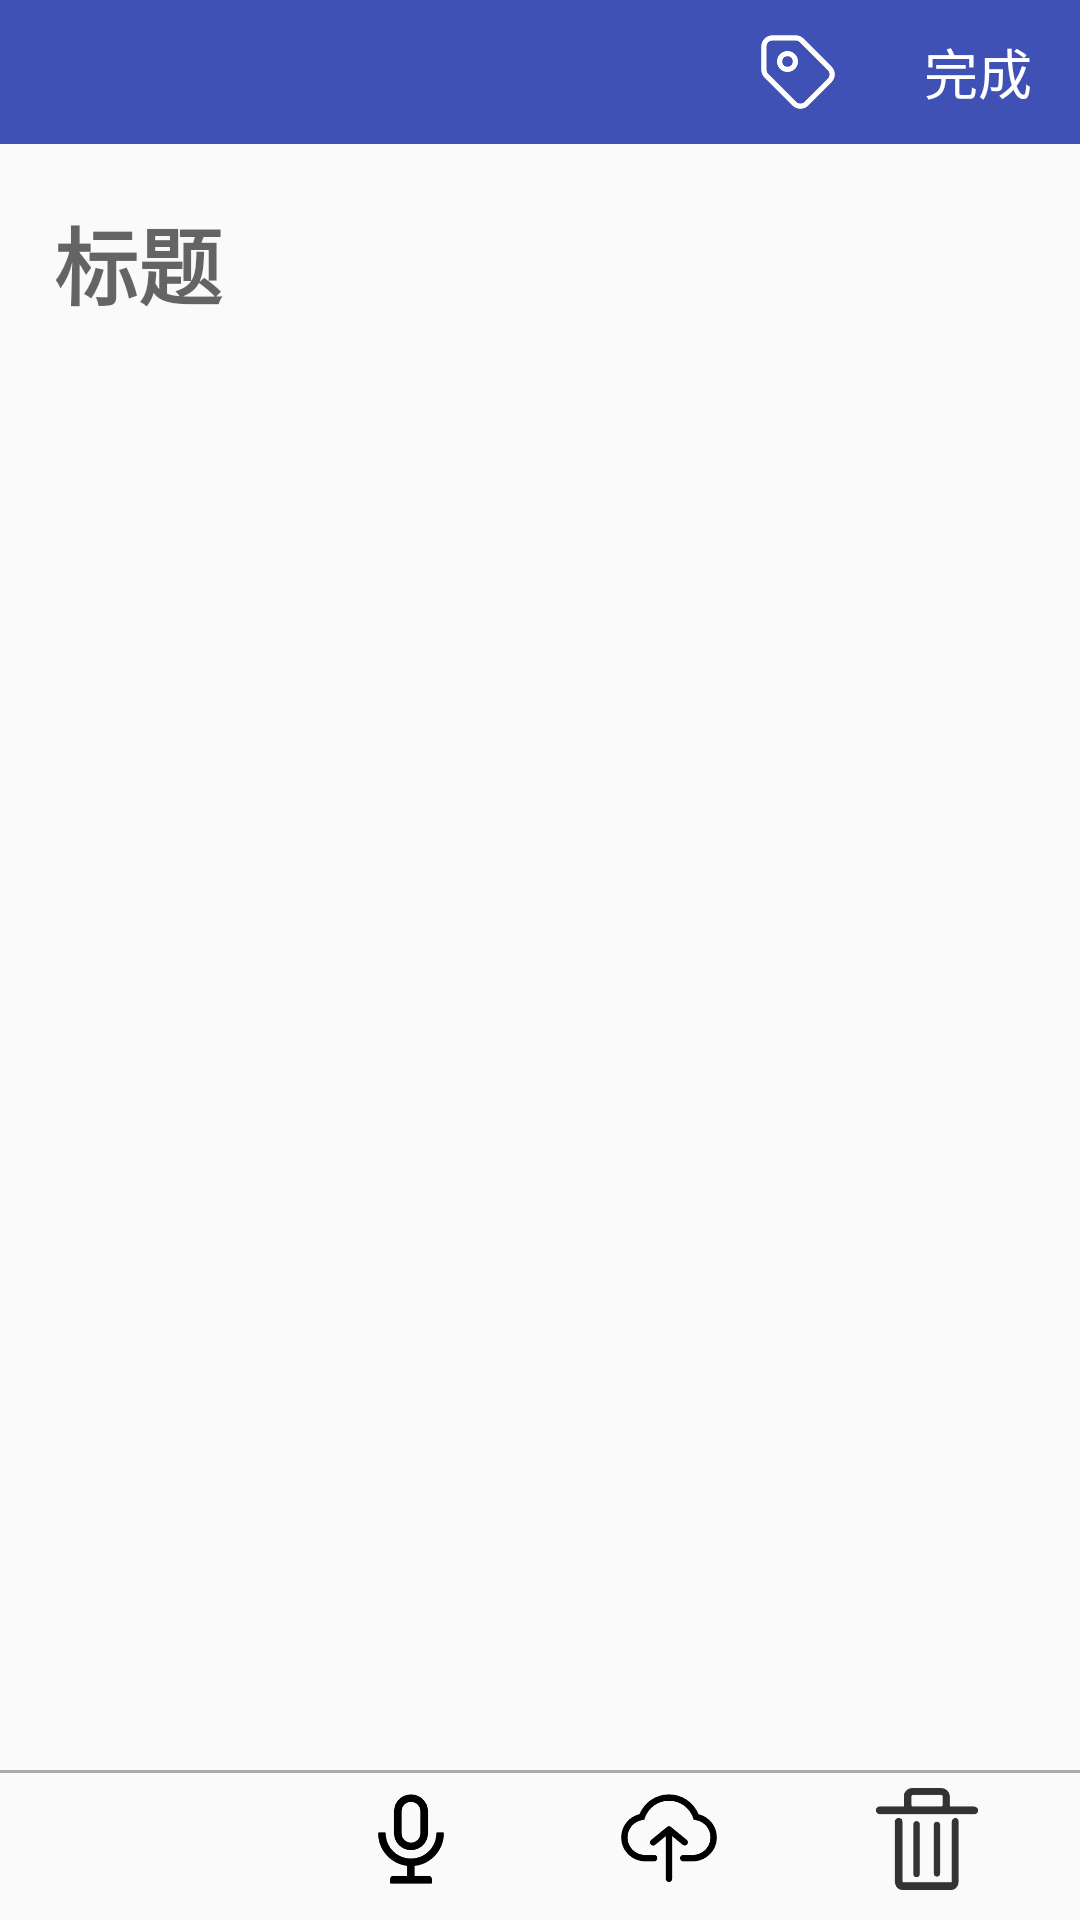

Locate icon controls on the screen. Image size 1080×1920, boxes as (x1, y1, x2, y2).
audio: (378, 1794, 444, 1884)
delete: (876, 1788, 978, 1890)
tag: (761, 35, 835, 109)
upload: (621, 1794, 717, 1882)
